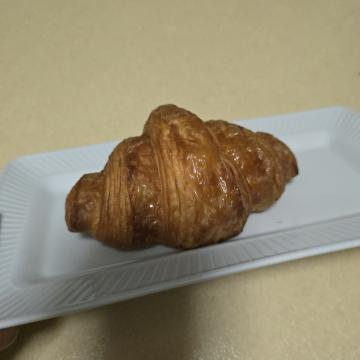croissant: (94, 55, 272, 303)
